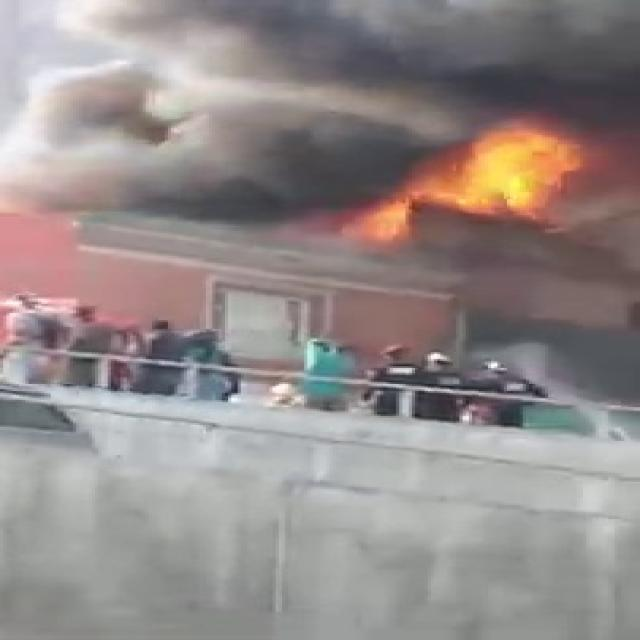Fire: (367, 117, 583, 257)
Smoke: (55, 4, 632, 223)
